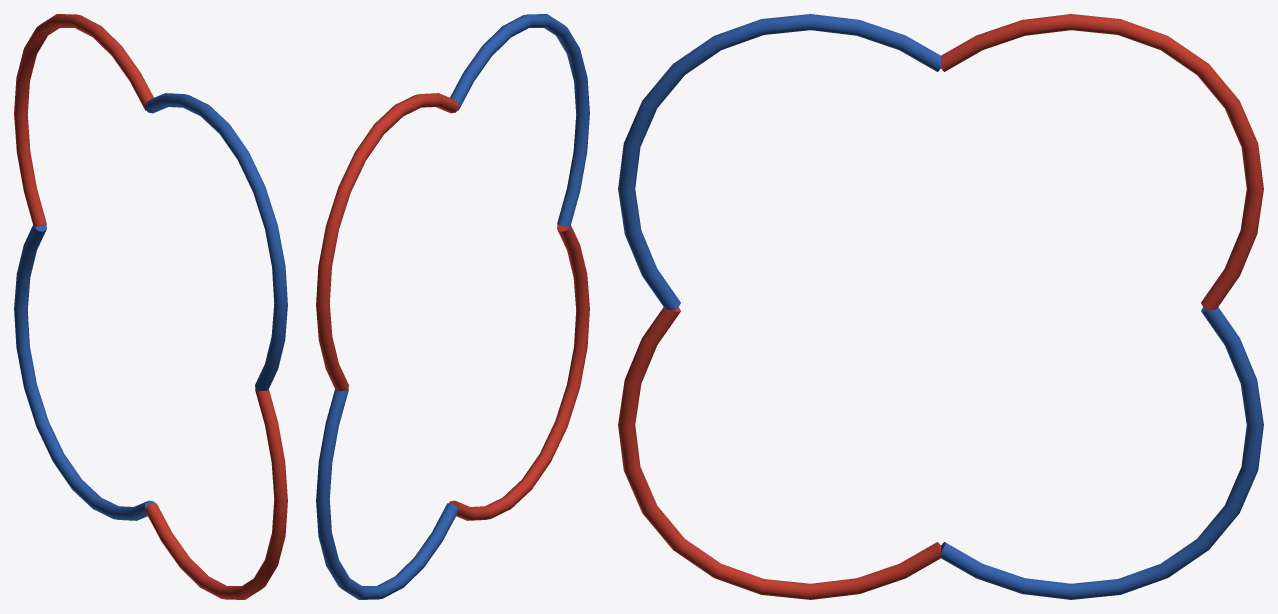
The model's file is stator_magnetic_field.glb.
The picture shows the model from 3 angles, left to right: view 1: azimuth 30°, elevation 25°; view 2: azimuth 150°, elevation 25°; view 3: azimuth 270°, elevation 25°; orthographic projection. The views are drawn at different scales.
Parts seen in each view (by area): view 1: mf; view 2: mf; view 3: mf.
Boxes of the visible parts, box(x1,y1,x2,y2) form: mf: box(14, 14, 287, 599); mf: box(316, 14, 589, 599); mf: box(618, 14, 1263, 599).
Size of the model in its own units: 0.01 by 0.3748 by 0.3748.
